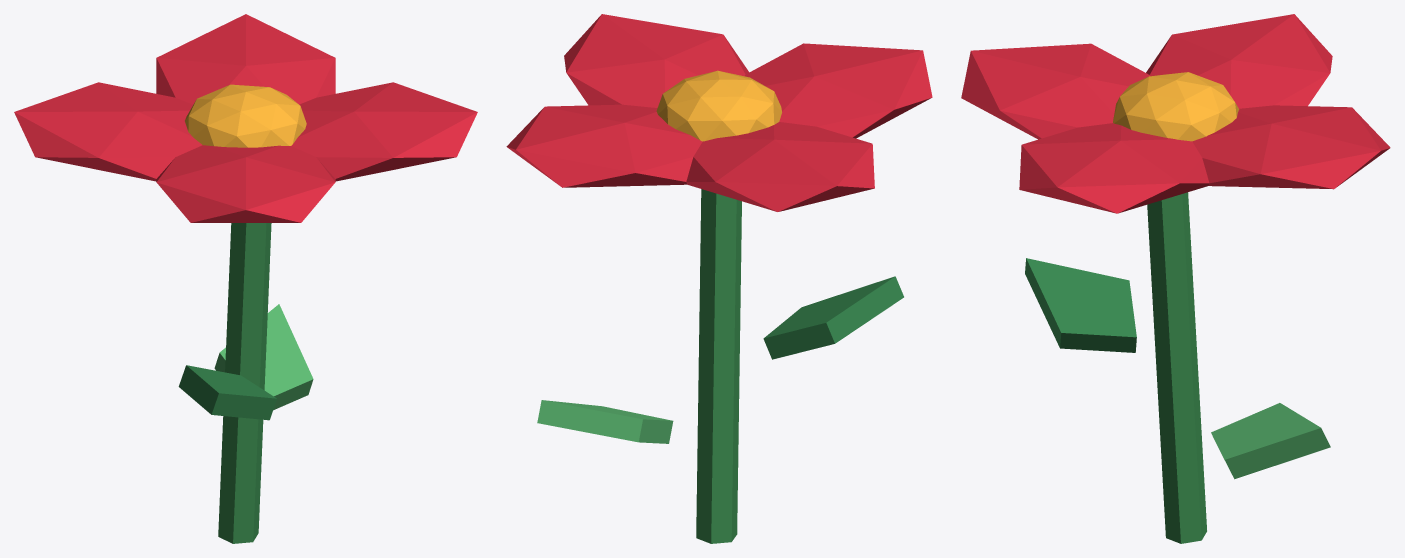
Rendered from MiniFlower_4Petal_Red.glb.
3 renders of one model, left to right at view 1: azimuth 30°, elevation 25°; view 2: azimuth 150°, elevation 25°; view 3: azimuth 270°, elevation 25°, orthographic. The views are drawn at different scales.
Parts seen in each view (by area): view 1: MiniFlower_4Petal_Red Petal 2, MiniFlower_4Petal_Red Petal 4, MiniFlower_4Petal_Red Stem, MiniFlower_4Petal_Red Petal 3, MiniFlower_4Petal_Red Petal 1, MiniFlower_4Petal_Red Center, MiniFlower_4Petal_Red Leaf -1, MiniFlower_4Petal_Red Leaf 1; view 2: MiniFlower_4Petal_Red Stem, MiniFlower_4Petal_Red Petal 1, MiniFlower_4Petal_Red Petal 2, MiniFlower_4Petal_Red Petal 3, MiniFlower_4Petal_Red Petal 4, MiniFlower_4Petal_Red Center, MiniFlower_4Petal_Red Leaf -1, MiniFlower_4Petal_Red Leaf 1; view 3: MiniFlower_4Petal_Red Stem, MiniFlower_4Petal_Red Petal 1, MiniFlower_4Petal_Red Petal 4, MiniFlower_4Petal_Red Petal 3, MiniFlower_4Petal_Red Petal 2, MiniFlower_4Petal_Red Leaf -1, MiniFlower_4Petal_Red Center, MiniFlower_4Petal_Red Leaf 1.
Boxes of the visible parts, x1,y1,x2,y2 form: MiniFlower_4Petal_Red Petal 2: (14, 82, 202, 181); MiniFlower_4Petal_Red Petal 4: (291, 82, 477, 181); MiniFlower_4Petal_Red Stem: (218, 223, 271, 543); MiniFlower_4Petal_Red Petal 3: (156, 145, 335, 222); MiniFlower_4Petal_Red Petal 1: (156, 14, 335, 104); MiniFlower_4Petal_Red Center: (185, 84, 306, 147); MiniFlower_4Petal_Red Leaf -1: (178, 365, 276, 420); MiniFlower_4Petal_Red Leaf 1: (214, 304, 313, 409); MiniFlower_4Petal_Red Stem: (696, 189, 741, 543); MiniFlower_4Petal_Red Petal 1: (506, 104, 702, 187); MiniFlower_4Petal_Red Petal 2: (686, 122, 874, 211); MiniFlower_4Petal_Red Petal 3: (745, 43, 932, 138); MiniFlower_4Petal_Red Petal 4: (564, 14, 749, 107); MiniFlower_4Petal_Red Center: (656, 70, 781, 141); MiniFlower_4Petal_Red Leaf -1: (763, 276, 903, 359); MiniFlower_4Petal_Red Leaf 1: (537, 400, 673, 443); MiniFlower_4Petal_Red Stem: (1147, 192, 1206, 543); MiniFlower_4Petal_Red Petal 1: (1192, 105, 1390, 189); MiniFlower_4Petal_Red Petal 4: (1019, 123, 1209, 213); MiniFlower_4Petal_Red Petal 3: (961, 43, 1149, 139); MiniFlower_4Petal_Red Petal 2: (1146, 14, 1332, 108); MiniFlower_4Petal_Red Leaf -1: (1025, 258, 1136, 352); MiniFlower_4Petal_Red Center: (1113, 72, 1239, 141); MiniFlower_4Petal_Red Leaf 1: (1211, 403, 1330, 479).
Bounding box in the file's own units: 0.3615 × 0.4241 × 0.3615.
